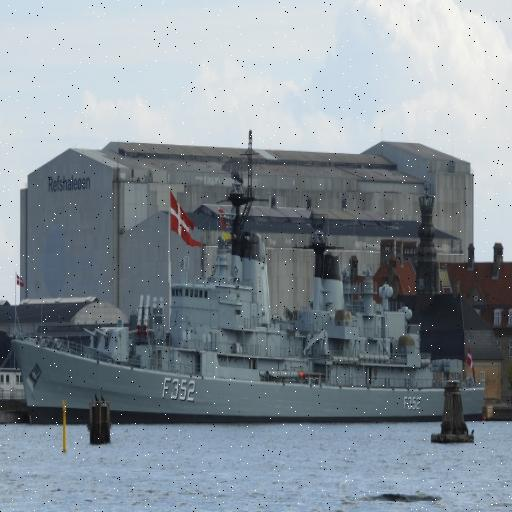Fragata: (14, 231, 494, 432)
